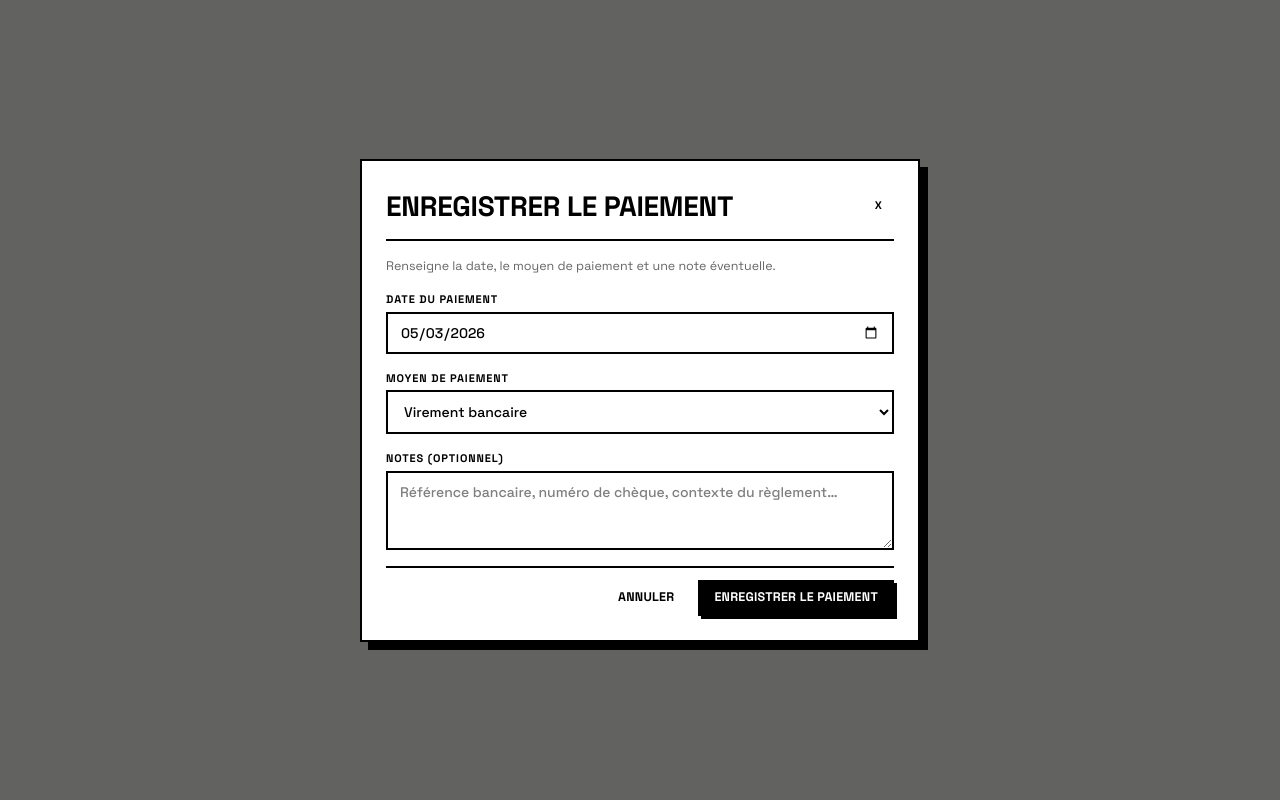
Test: MarkPaidModal › affiche le champ custom method quand method=other
Select "Autre" in the dropdown with test id "mark-paid-method" at (640, 412), box [386,390,894,434]
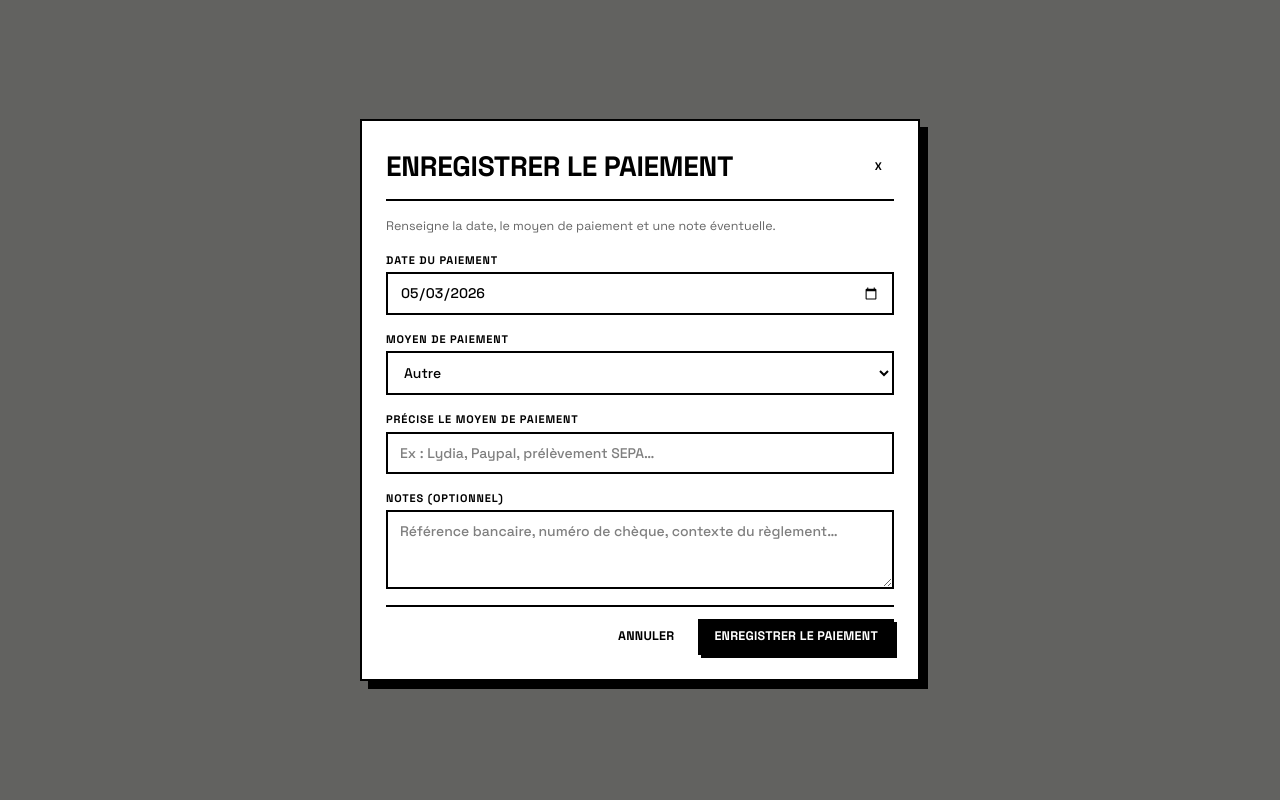
Result: the field with test id "mark-paid-custom" is shown at [386,432,894,474]
